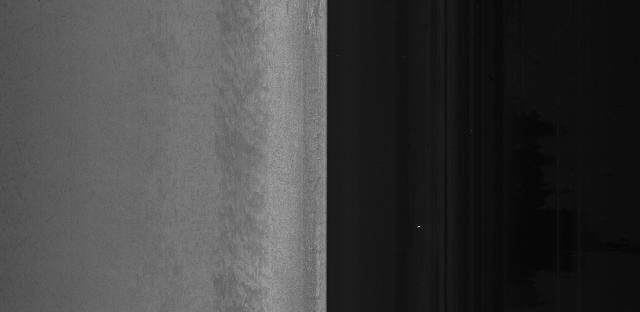silk_spot: (213, 121, 273, 212)
